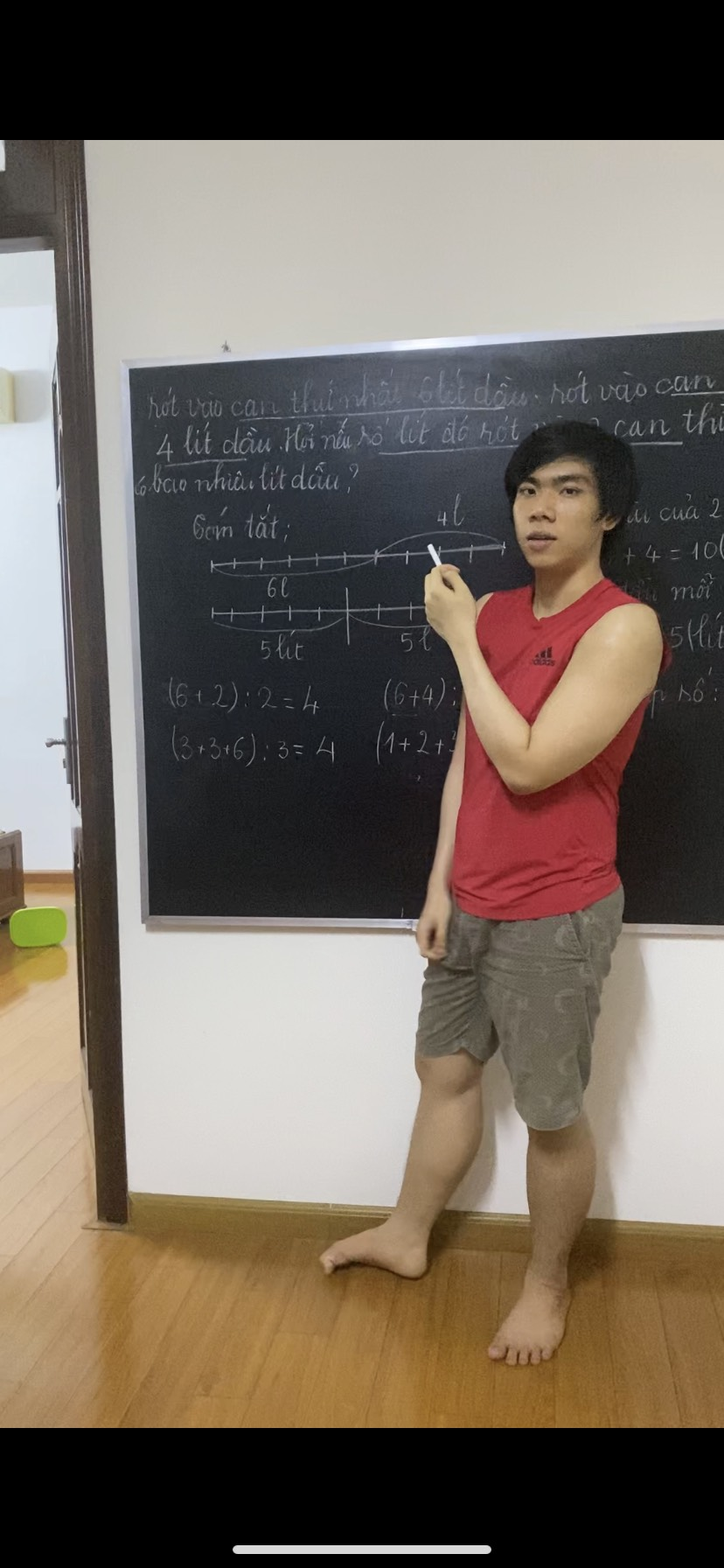cigarette: (423, 538, 447, 569)
person: (322, 373, 681, 1386)
